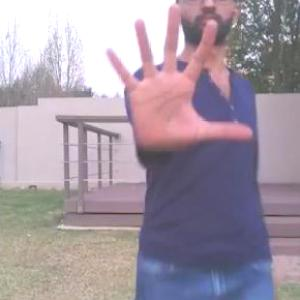follow_hand: (97, 0, 256, 151)
